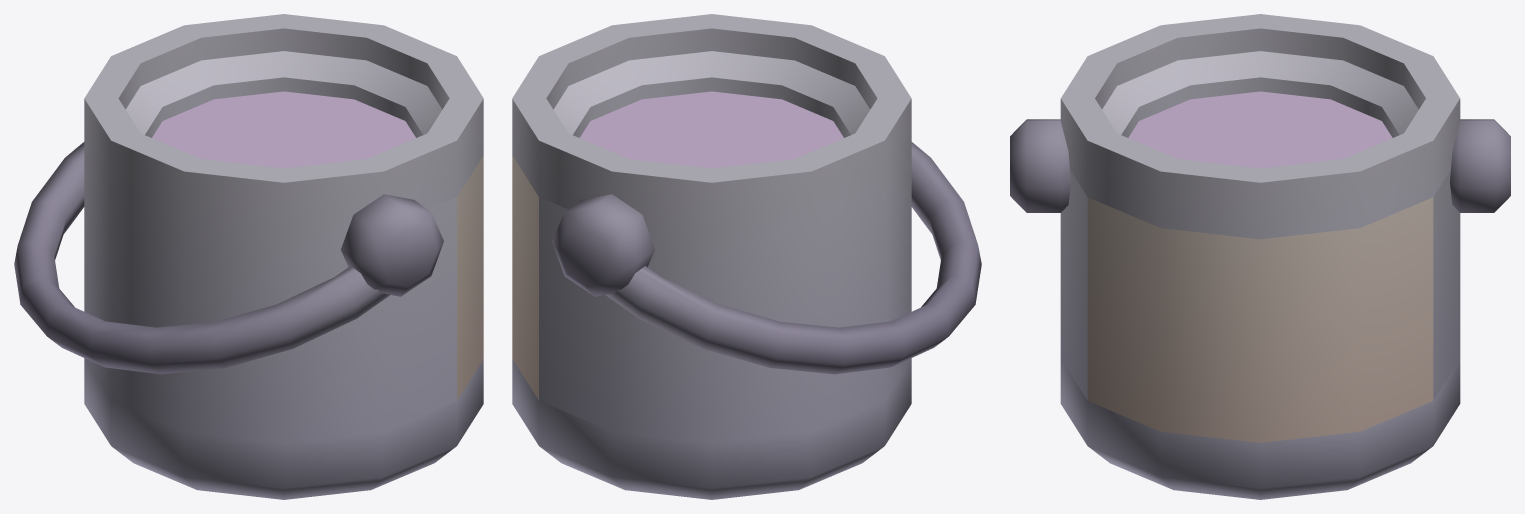
The model's file is paint-can.glb.
3 renders of one model, left to right at view 1: azimuth 30°, elevation 25°; view 2: azimuth 150°, elevation 25°; view 3: azimuth 270°, elevation 25°, orthographic.
Parts seen in each view (by area): view 1: paint-can; view 2: paint-can; view 3: paint-can.
Boxes of the visible parts, x1,y1,x2,y2 form: paint-can: (14,14,483,499); paint-can: (512,14,981,499); paint-can: (1010,14,1510,499).
Bounding box in the file's own units: 0.3792 × 0.29 × 0.4011.
